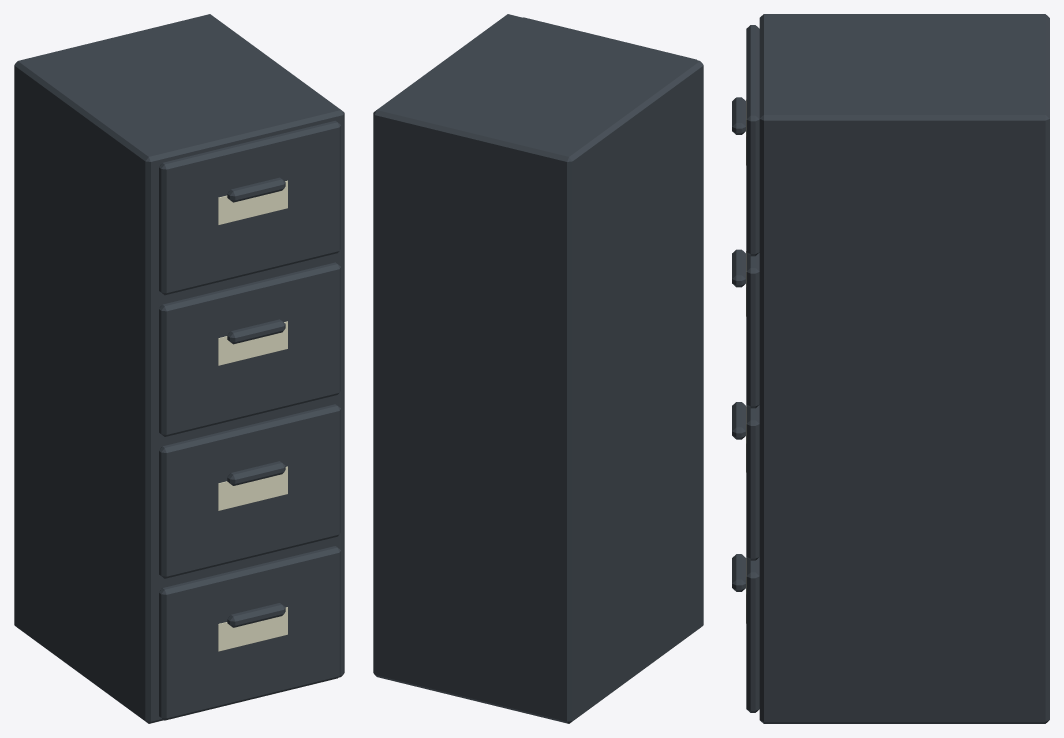
Rendered from FilingCabinet.fbx.
The picture shows the model from 3 angles, left to right: view 1: azimuth 30°, elevation 25°; view 2: azimuth 150°, elevation 25°; view 3: azimuth 270°, elevation 25°; orthographic projection. The views are drawn at different scales.
Parts seen in each view (by area): view 1: FilingCabinet; view 2: FilingCabinet; view 3: FilingCabinet.
Boxes of the visible parts, bbox=[...] form: FilingCabinet: bbox=[14, 14, 344, 723]; FilingCabinet: bbox=[373, 14, 703, 723]; FilingCabinet: bbox=[732, 14, 1049, 723].
Bounding box in the file's own units: 46 × 125 × 59.1.
1 material, 1 textured.
